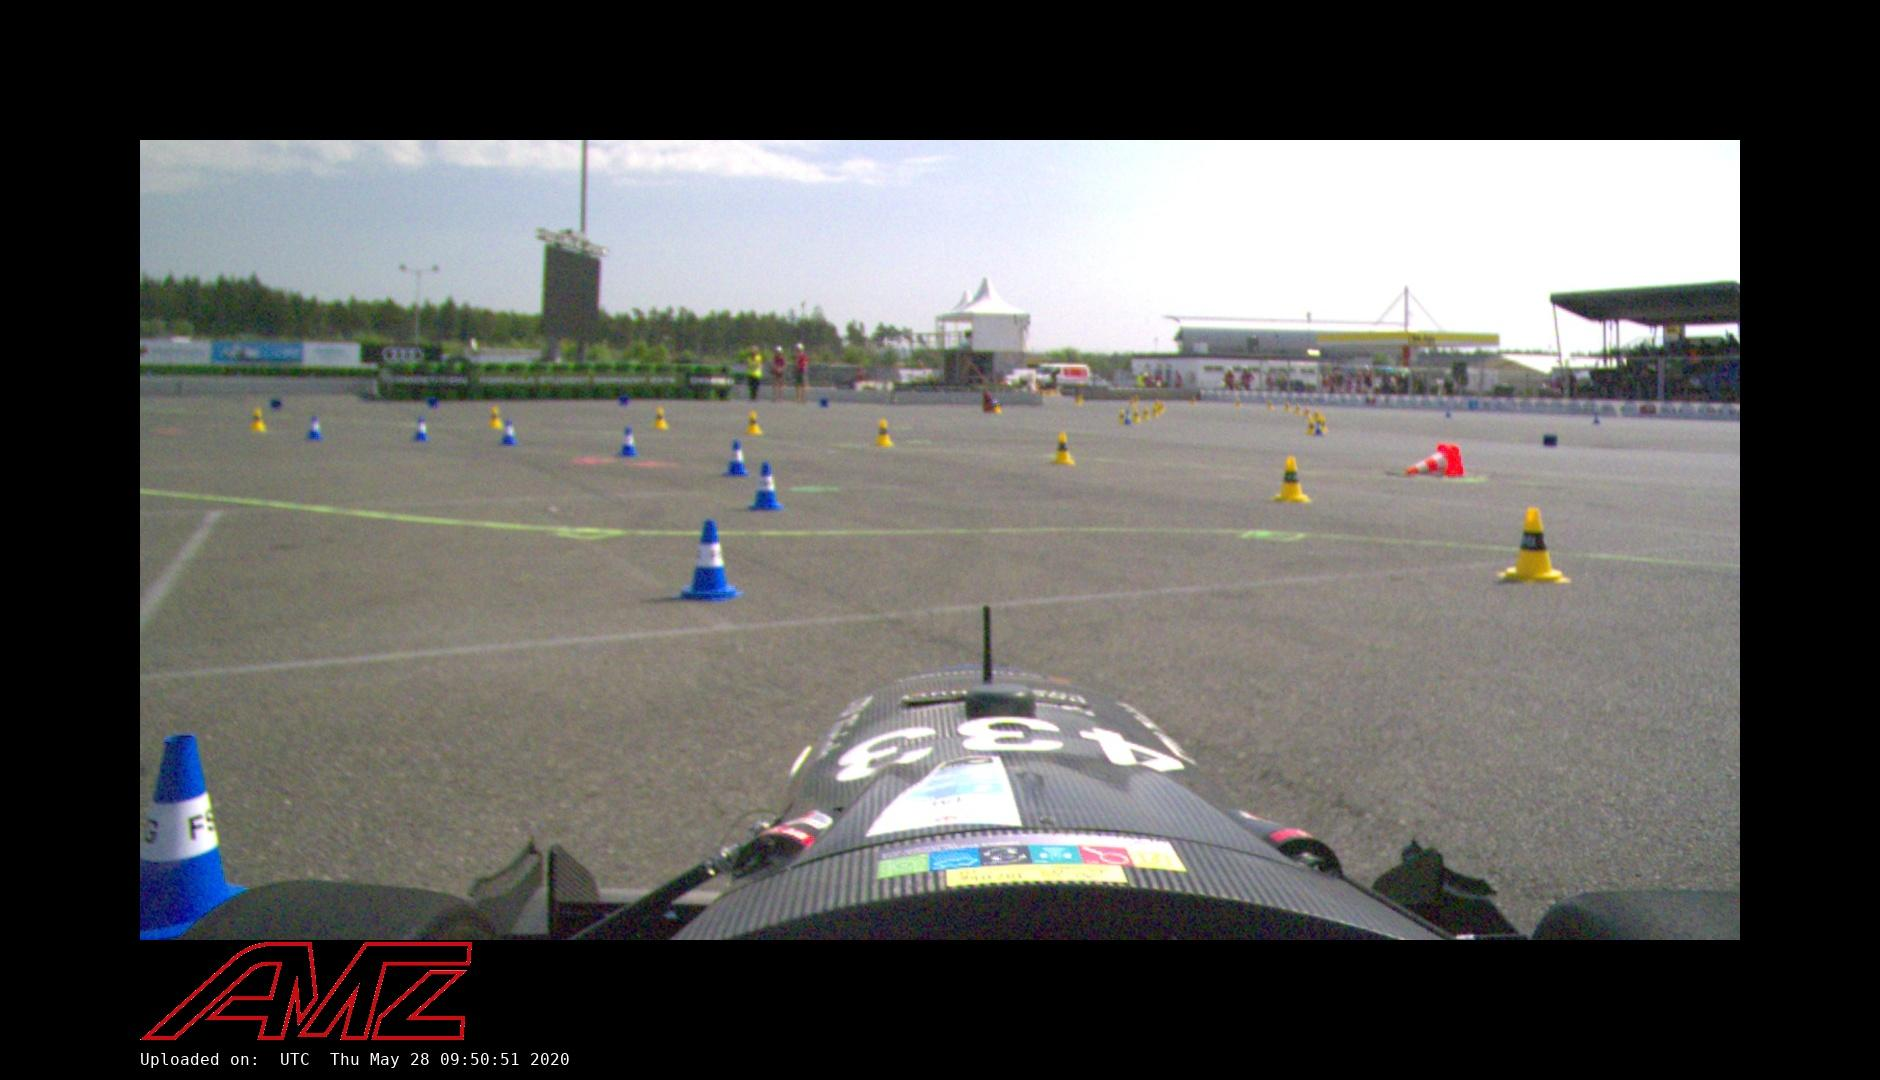blue_cone: (139, 732, 249, 939), (675, 518, 742, 602), (748, 460, 785, 512), (722, 439, 750, 477), (617, 426, 638, 457), (498, 419, 520, 446), (305, 413, 324, 442), (411, 416, 431, 442), (1314, 420, 1323, 435)
orange_cone: (1405, 442, 1464, 477)
yellow_cone: (1495, 506, 1569, 587), (1269, 455, 1311, 503), (1050, 431, 1074, 465), (873, 419, 894, 446), (742, 410, 763, 437), (248, 406, 265, 431), (487, 406, 504, 430), (651, 408, 669, 429), (1305, 419, 1317, 435)
